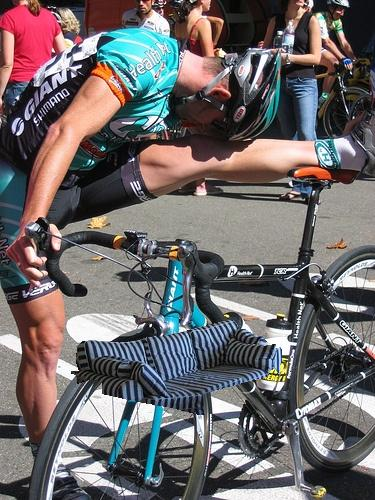tampered: (72, 321, 282, 415)
